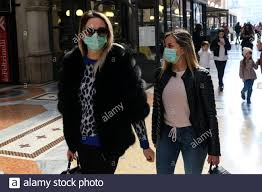with-mask: (77, 9, 113, 55), (157, 27, 194, 67)
